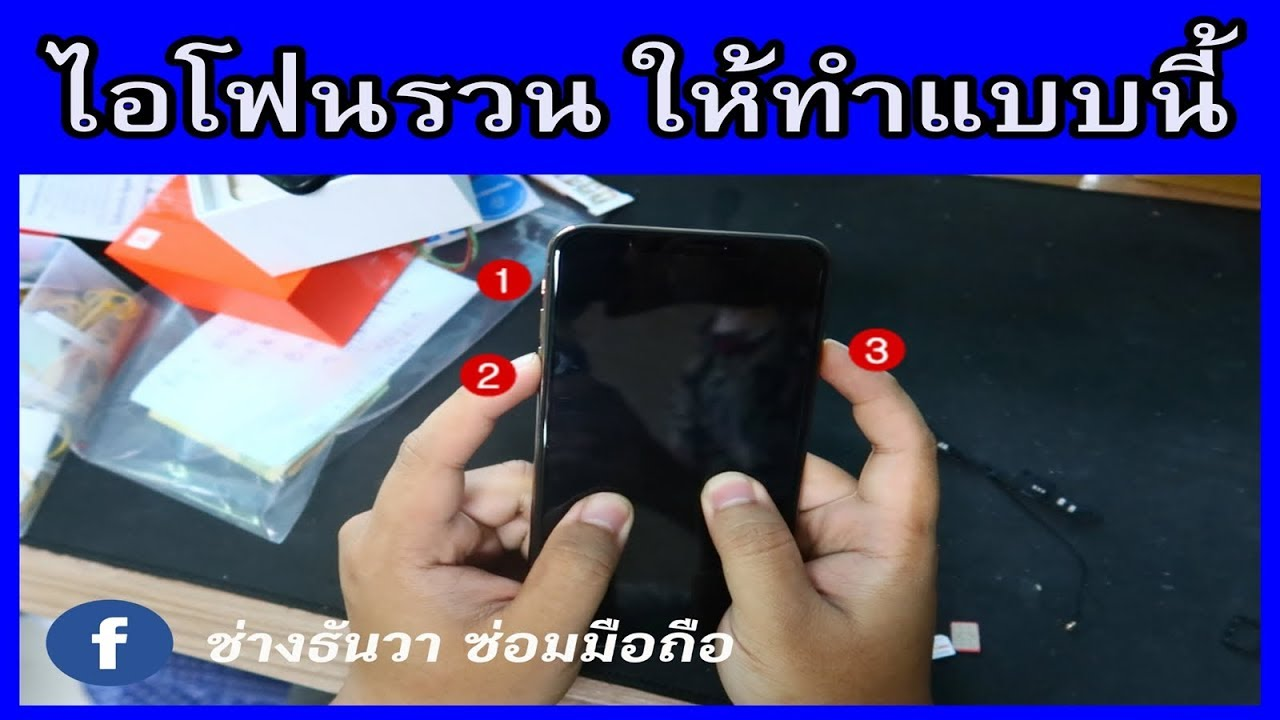Phone: (528, 216, 837, 666)
